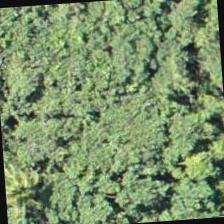Kelapa_Sawit: (2, 140, 70, 223)
